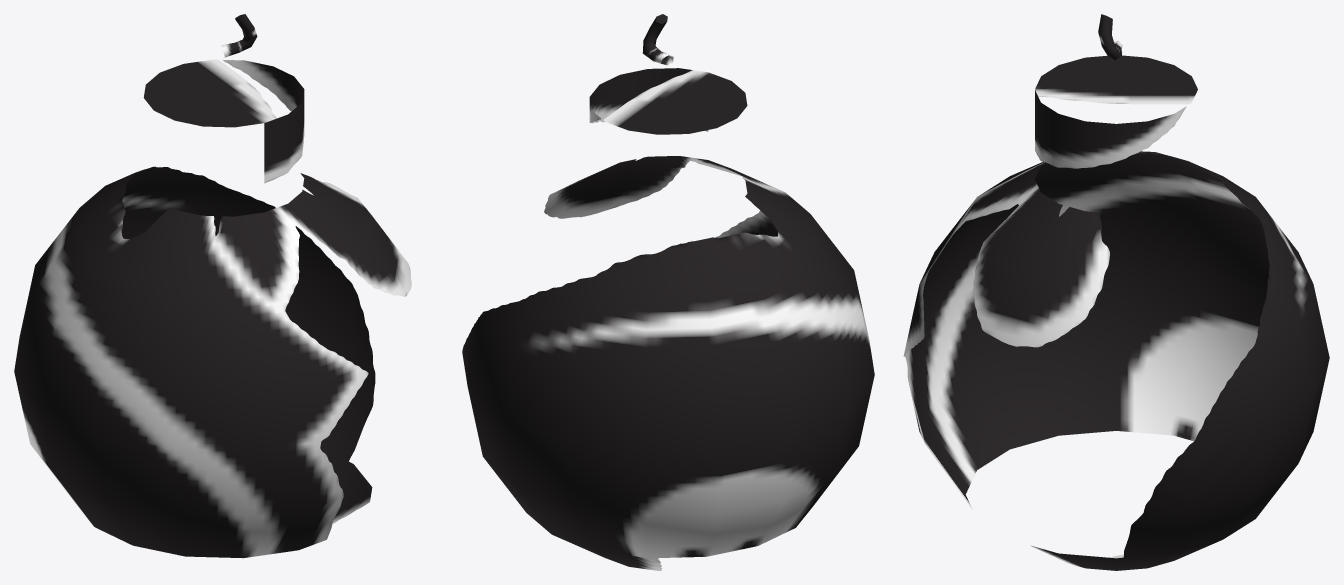
Rendered from bomb.FBX.
3 views of the same model, side by side, from view 1: azimuth 30°, elevation 25°; view 2: azimuth 150°, elevation 25°; view 3: azimuth 270°, elevation 25° (orthographic). The views are drawn at different scales.
Parts seen in each view (by area): view 1: Bomb; view 2: Bomb; view 3: Bomb.
Boxes of the visible parts, <box> form: Bomb: <box>14,14,411,558</box>; Bomb: <box>462,14,874,570</box>; Bomb: <box>903,14,1329,570</box>.
Bounding box in the file's own units: 1.6 × 2.25 × 1.6.
